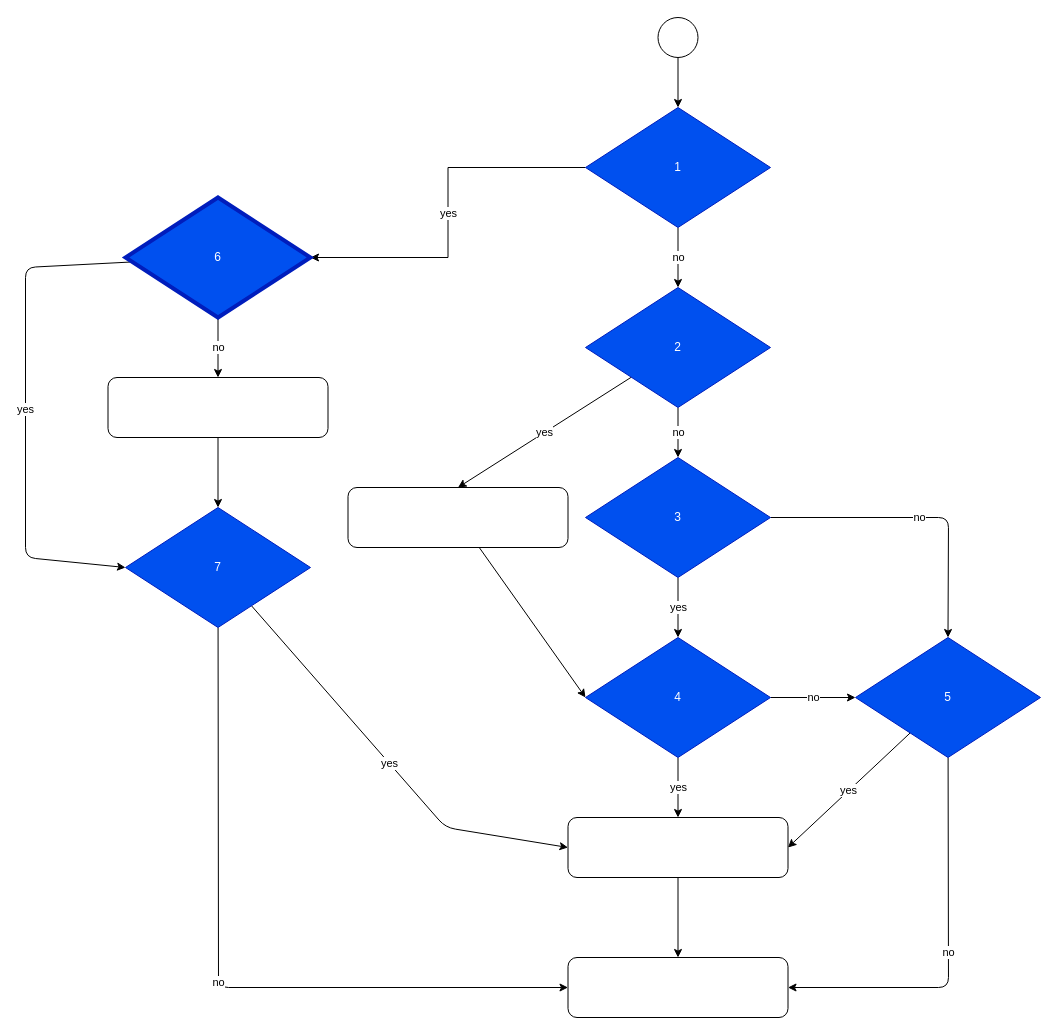
Image size: 1058x1035. Some labels were removed from this diagram. The centre of each missing label's shape, as x and y in pixels:
"EXIT" goes at pixel 677 987.
"PA" goes at pixel 457 517.
"PB" goes at pixel 217 407.
"PC" goes at pixel 677 847.
